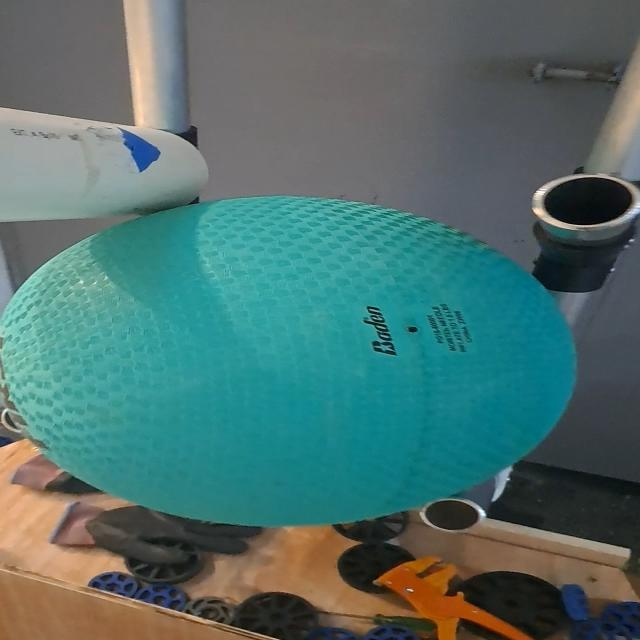ALGAE: (0, 188, 586, 528)
CORAL: (0, 91, 215, 224)
